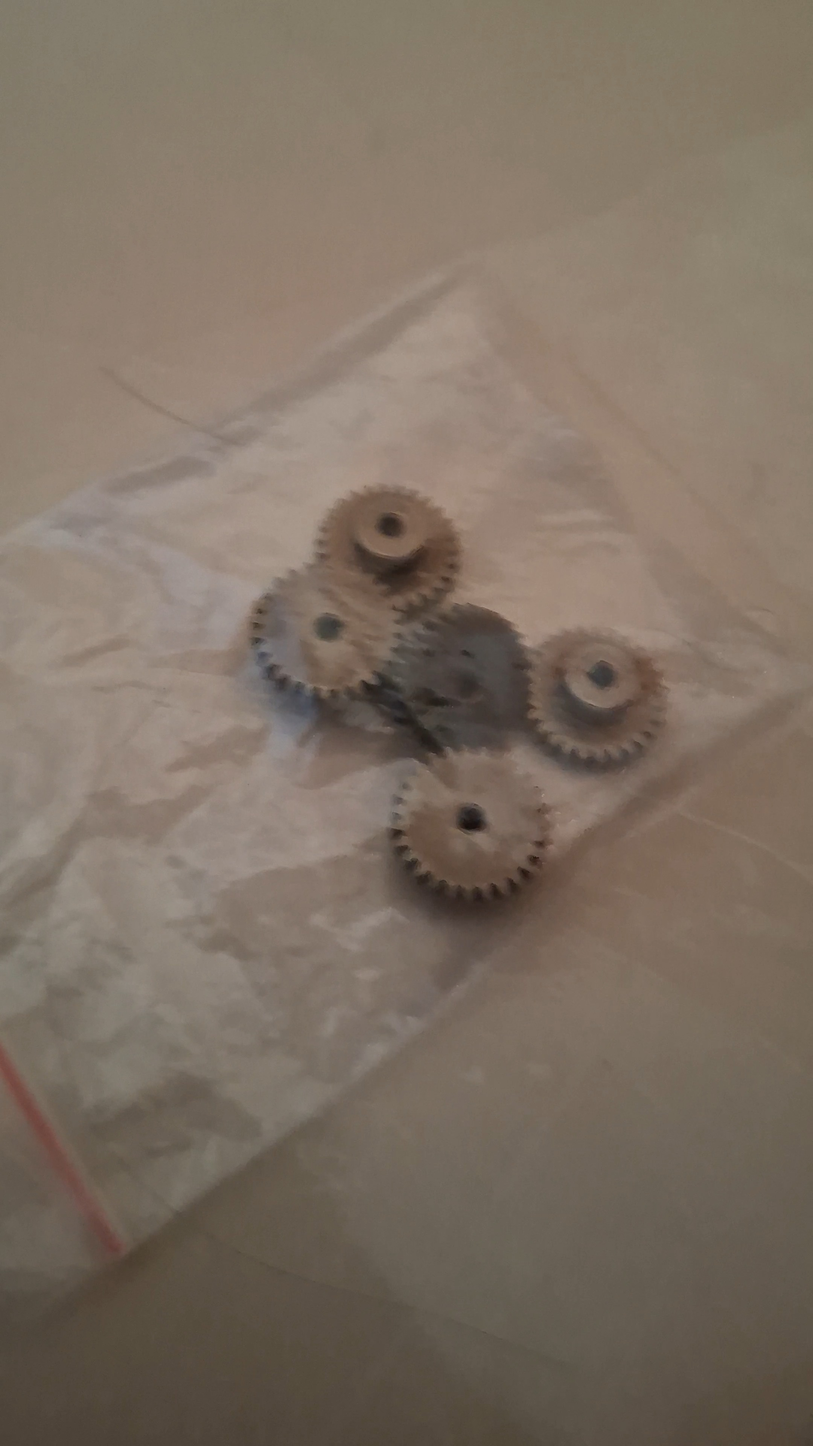spur gear: (391, 750, 549, 900), (384, 604, 527, 748), (251, 566, 396, 699), (529, 630, 665, 766), (316, 487, 459, 612)
